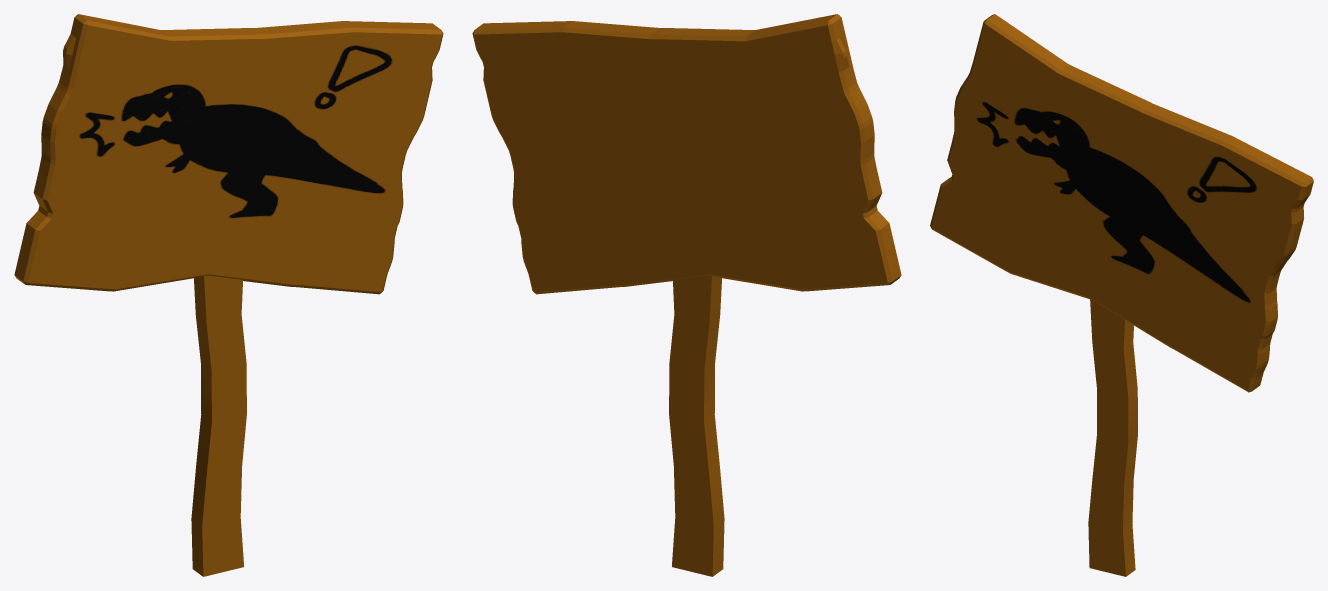
File: Bord.fbx
3 views of the same model, side by side, from view 1: azimuth 30°, elevation 25°; view 2: azimuth 150°, elevation 25°; view 3: azimuth 330°, elevation 25° (orthographic). The views are drawn at different scales.
Parts seen in each view (by area): view 1: pCube1, pCube2; view 2: pCube1, pCube2; view 3: pCube1, pCube2.
Part boxes in pixels (<box>): pCube1: <box>14,14,443,294</box>; pCube2: <box>191,275,246,576</box>; pCube1: <box>472,14,901,294</box>; pCube2: <box>669,275,724,576</box>; pCube1: <box>930,14,1313,392</box>; pCube2: <box>1088,299,1137,576</box>.
Bounding box in the file's own units: 566 × 752 × 29.27.
